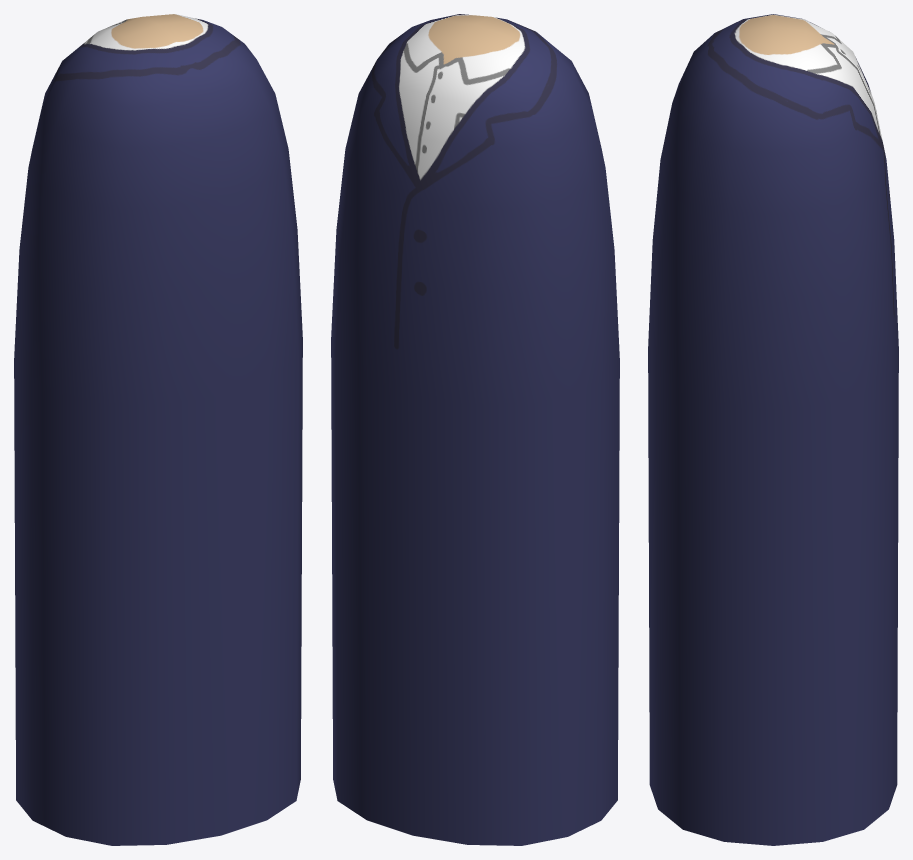
The model's file is Oden_Person_Model1.gltf.
3 renders of one model, left to right at view 1: azimuth 30°, elevation 25°; view 2: azimuth 150°, elevation 25°; view 3: azimuth 270°, elevation 25°, orthographic.
Parts seen in each view (by area): view 1: Oden_Person_Model1; view 2: Oden_Person_Model1; view 3: Oden_Person_Model1.
Part boxes in pixels (box(x1,y1,x2,y2)): Oden_Person_Model1: box(14, 14, 302, 845); Oden_Person_Model1: box(331, 14, 619, 845); Oden_Person_Model1: box(648, 14, 898, 845).
Bounding box in the file's own units: 5.63 × 16.14 × 4.84.
1 material, 1 textured.
